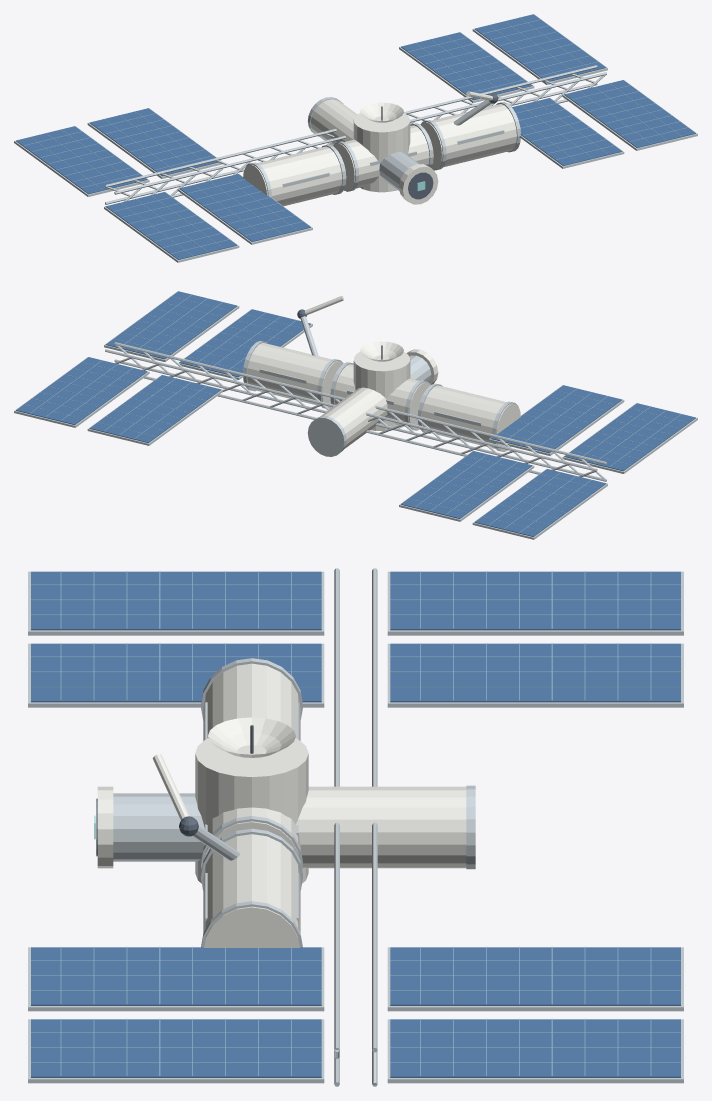
Rendered from 05_OrbitalResearchStation.glb.
3 views of the same model, one above another, from view 1: azimuth 30°, elevation 25°; view 2: azimuth 150°, elevation 25°; view 3: azimuth 270°, elevation 25° (orthographic). The views are drawn at different scales.
Visible parts, largest first — view 1: Array__1_1_1_2__cells (×2), Array__1_1_4_5__cells (×2), Array__1_0_4_5__cells (×2), Array__1_0_1_2__cells (×2), Habitat_0, Habitat_2, 05_OrbitalResearchStation, Truss_rail__0_3_1_95_ (×2), Habitat_1, Rear_lab, Truss_rail__0_3_1_35_, Array__1_1_1_2__frame (×2) (+10 smaller); view 2: Array__1_0_4_5__cells (×2), Array__1_1_4_5__cells (×2), Array__1_1_1_2__cells (×2), Array__1_0_1_2__cells (×2), Habitat_0, Habitat_2, Truss_rail__0_3_1_35_ (×2), Truss_rail__0_3_1_95_ (×2), 05_OrbitalResearchStation, Rear_lab, Habitat_1, Rear_cap (+9 smaller); view 3: Array__1_0_4_5__cells (×2), Array__1_1_4_5__cells (×2), Array__1_1_1_2__cells (×2), Array__1_0_1_2__cells (×2), Rear_lab, Habitat_2, 05_OrbitalResearchStation, Docking_tunnel, Habitat_0, Array__1_0_4_5__frame (×2), Array__1_1_4_5__frame (×2), Array__1_1_1_2__frame (×2) (+9 smaller).
Boxes of the visible parts, x1,y1,x2,y2 form: Array__1_1_1_2__cells (×2): (105, 80, 695, 259); Array__1_1_4_5__cells (×2): (16, 14, 606, 194); Array__1_0_4_5__cells (×2): (89, 32, 532, 176); Array__1_0_1_2__cells (×2): (179, 98, 622, 241); Habitat_0: (243, 146, 346, 206); Habitat_2: (421, 104, 520, 169); 05_OrbitalResearchStation: (353, 113, 410, 192); Truss_rail__0_3_1_95_ (×2): (105, 65, 597, 204); Habitat_1: (333, 125, 433, 190); Rear_lab: (310, 99, 357, 145); Truss_rail__0_3_1_35_: (114, 72, 606, 194); Array__1_1_1_2__frame (×2): (104, 80, 697, 262); Array__1_0_4_5__cells (×2): (89, 375, 532, 518); Array__1_1_4_5__cells (×2): (16, 357, 606, 536); Array__1_1_1_2__cells (×2): (105, 291, 695, 471); Array__1_0_1_2__cells (×2): (179, 309, 622, 453); Habitat_0: (417, 385, 520, 450); Habitat_2: (243, 343, 342, 408); Truss_rail__0_3_1_35_ (×2): (114, 342, 606, 481); Truss_rail__0_3_1_95_ (×2): (105, 349, 597, 474); 05_OrbitalResearchStation: (353, 352, 410, 431); Rear_lab: (320, 387, 387, 448); Habitat_1: (330, 364, 430, 429); Rear_cap: (307, 416, 346, 456); Array__1_0_4_5__cells (×2): (390, 643, 680, 1005); Array__1_1_4_5__cells (×2): (390, 571, 680, 1077); Array__1_1_1_2__cells (×2): (31, 571, 321, 1077); Array__1_0_1_2__cells (×2): (31, 643, 321, 1005); Rear_lab: (296, 786, 466, 868); Habitat_2: (203, 834, 300, 947); 05_OrbitalResearchStation: (195, 738, 308, 883); Docking_tunnel: (113, 793, 204, 861); Habitat_0: (203, 663, 300, 740); Array__1_0_4_5__frame (×2): (387, 643, 683, 1011); Array__1_1_4_5__frame (×2): (387, 571, 683, 1083); Array__1_1_1_2__frame (×2): (28, 571, 324, 1083).
Bounding box in the file's own units: 19.05 × 3.18 × 10.4.
